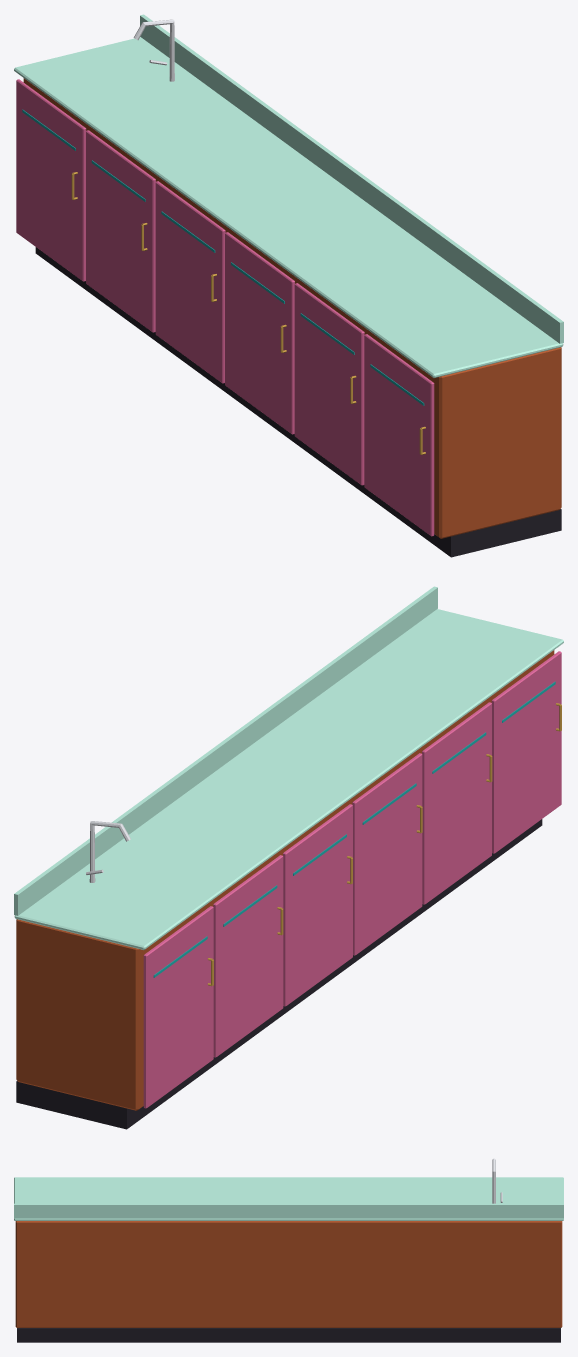
The picture shows the model from 3 angles, top to bottom: view 1: azimuth 30°, elevation 25°; view 2: azimuth 150°, elevation 25°; view 3: azimuth 270°, elevation 25°; orthographic projection. The views are drawn at different scales.
Visible parts, largest first — view 1: worktop, carcass, door_1_panel, door_0_panel, door_5_panel, door_3_panel, door_4_panel, door_2_panel, upstand, kick_plinth; view 2: worktop, carcass, door_5_panel, door_4_panel, door_0_panel, door_1_panel, door_3_panel, door_2_panel, upstand, kick_plinth; view 3: carcass, worktop, upstand, kick_plinth.
Boxes of the visible parts, x1=… form: worktop: x1=14, y1=37, x2=563, y2=377; carcass: x1=23, y1=78, x2=561, y2=538; door_1_panel: x1=294, y1=283, x2=364, y2=485; door_0_panel: x1=364, y1=334, x2=434, y2=536; door_5_panel: x1=16, y1=79, x2=86, y2=281; door_3_panel: x1=155, y1=181, x2=225, y2=383; door_4_panel: x1=86, y1=130, x2=155, y2=332; door_2_panel: x1=225, y1=232, x2=294, y2=434; upstand: x1=140, y1=14, x2=563, y2=343; kick_plinth: x1=35, y1=247, x2=561, y2=557; worktop: x1=14, y1=609, x2=563, y2=949; carcass: x1=16, y1=650, x2=554, y2=1110; door_5_panel: x1=143, y1=906, x2=213, y2=1108; door_4_panel: x1=213, y1=855, x2=283, y2=1057; door_0_panel: x1=491, y1=651, x2=561, y2=853; door_1_panel: x1=422, y1=702, x2=491, y2=904; door_3_panel: x1=283, y1=804, x2=352, y2=1006; door_2_panel: x1=352, y1=753, x2=422, y2=955; upstand: x1=14, y1=586, x2=437, y2=915; kick_plinth: x1=16, y1=819, x2=542, y2=1129; carcass: x1=15, y1=1221, x2=562, y2=1327; worktop: x1=14, y1=1177, x2=563, y2=1220; upstand: x1=14, y1=1203, x2=563, y2=1218; kick_plinth: x1=17, y1=1328, x2=560, y2=1342.
Size of the model in its own units: 0.6752 by 1.21 by 3.62.
